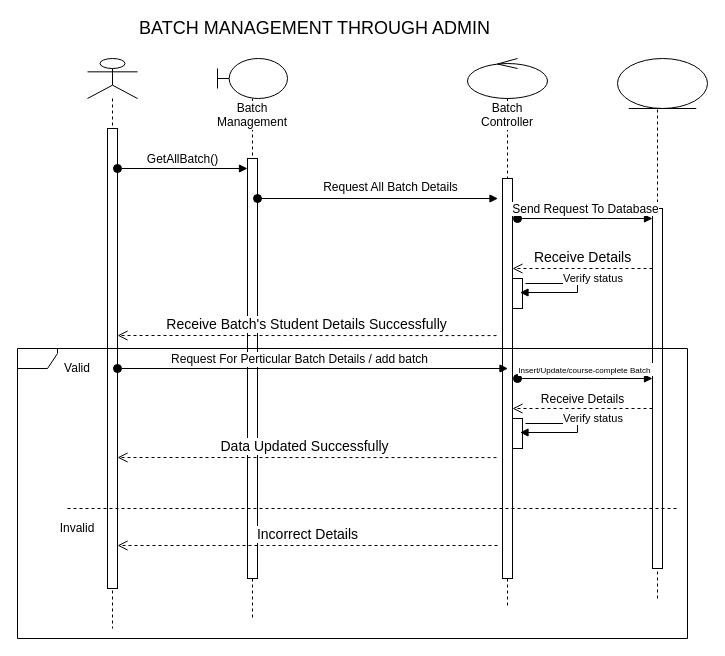
Image size: 725x656. Some labels were removed from this diagram. The centre of each missing label's shape, as x and y in pixels:
Alt: point (352, 493)
Batch database: point (662, 83)
